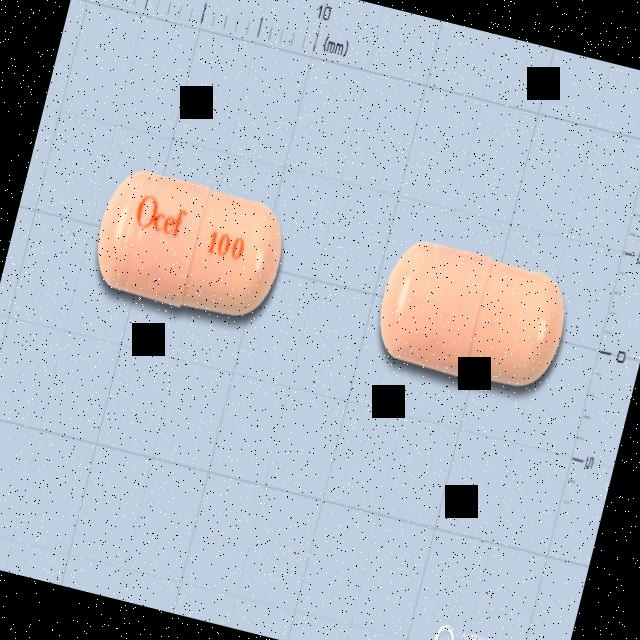Omnicef Cap: (84, 161, 294, 330)
